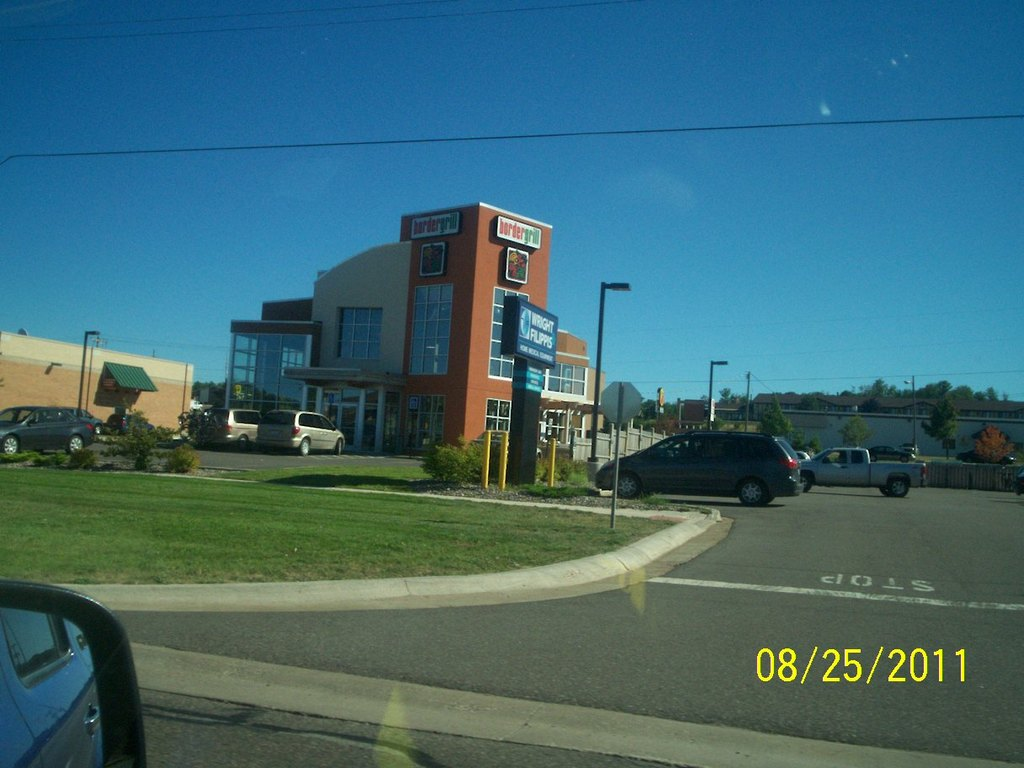Tree: (656, 369, 1023, 433), (16, 401, 191, 473), (423, 434, 505, 495), (520, 442, 596, 500), (186, 365, 239, 426), (916, 394, 960, 462)
